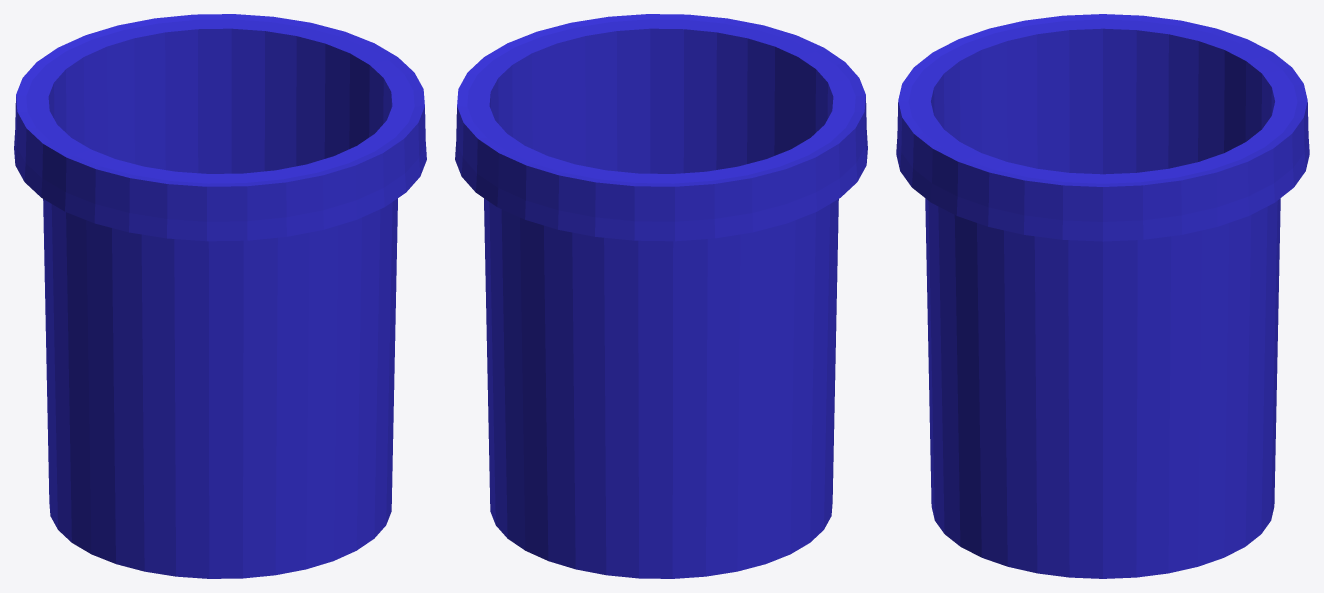
Rendered from clf_bin_blue.dae.
3 renders of one model, left to right at view 1: azimuth 30°, elevation 25°; view 2: azimuth 150°, elevation 25°; view 3: azimuth 270°, elevation 25°, orthographic.
Visible parts, largest first — view 1: Cylinder; view 2: Cylinder; view 3: Cylinder.
Part boxes in pixels (x1,y1,x2,y2): Cylinder: (14, 14, 426, 578); Cylinder: (455, 14, 867, 578); Cylinder: (896, 14, 1309, 578).
Size of the model in its own units: 0.3693 by 0.3693 by 0.4.
